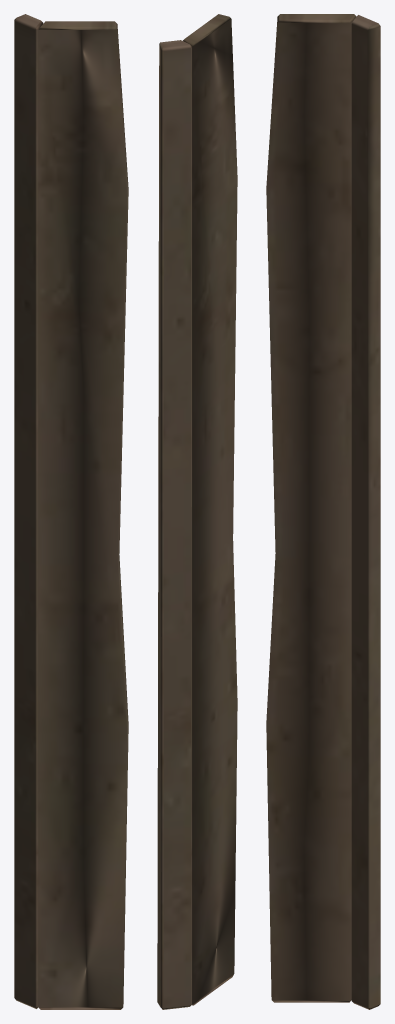
The model's file is wall.frontier.corner.l.glb.
3 views of the same model, side by side, from view 1: azimuth 90°, elevation 25°; view 2: azimuth 150°, elevation 25°; view 3: azimuth 270°, elevation 25° (orthographic). The views are drawn at different scales.
Visible parts, largest first — view 1: model; view 2: model; view 3: model.
Part boxes in pixels (left/top/right/bottom): model: left=14, top=14, right=128, bottom=1009; model: left=157, top=14, right=237, bottom=1009; model: left=266, top=14, right=380, bottom=1009.
Size of the model in its own units: 0.0978 by 3 by 0.3162.
Materials: 1 (1 with a texture image).
